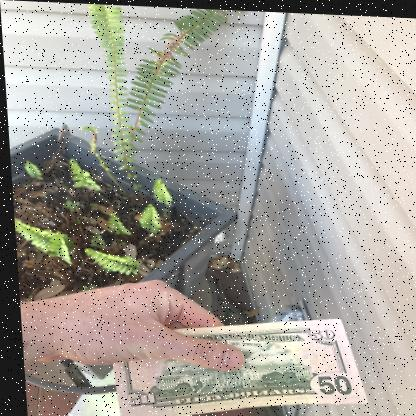fifty-back: (104, 316, 365, 416)
